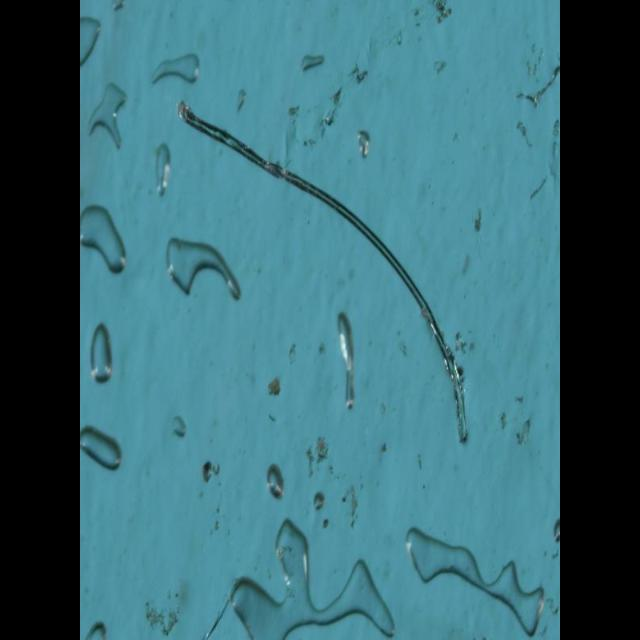Fibre: (175, 97, 469, 446)
